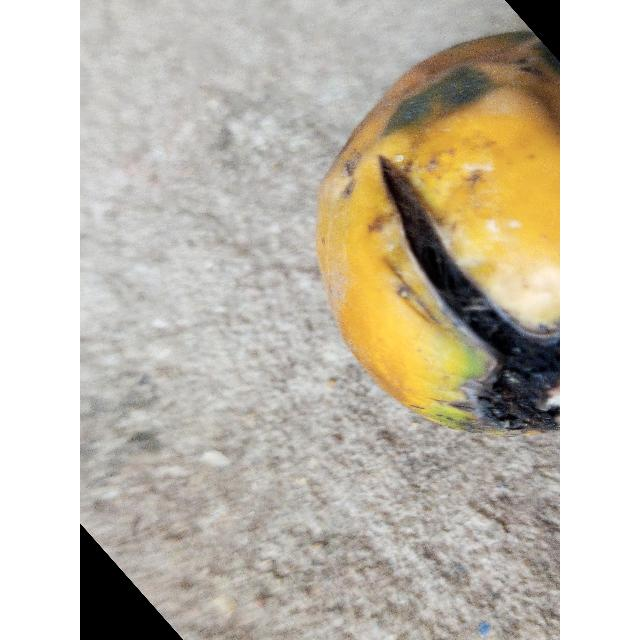damaged: (315, 34, 560, 431)
